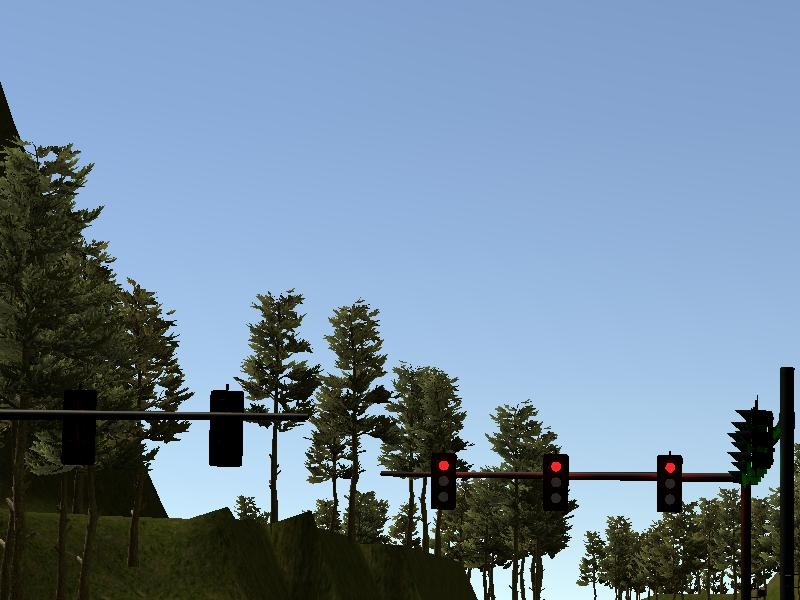red: (540, 452, 570, 513), (655, 453, 684, 513), (429, 451, 457, 510)
